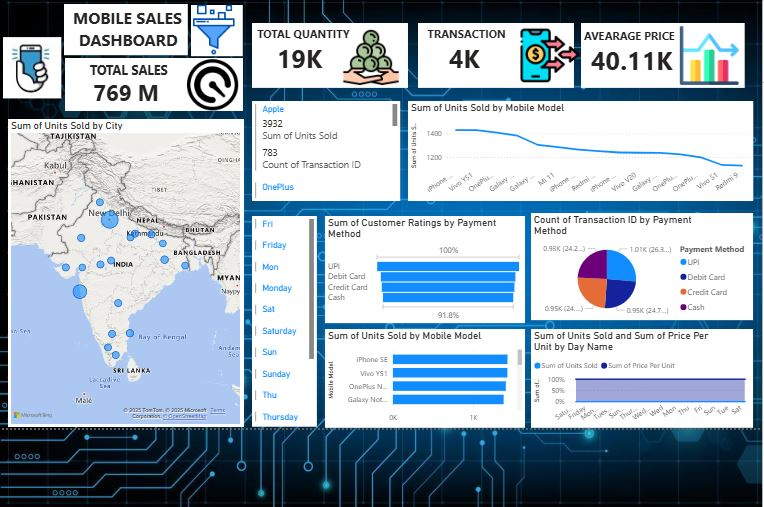

The page's visual inventory and layout, read from the dashboard file:
{"tool":"powerbi","page":{"name":"Page 1","canvas":[1280,720],"ordinal":0},"visuals":[{"type":"lineChart","fields":{"Y":["Sum(Sheet1.Units Sold)"],"Category":["Sheet1.Mobile Model"]},"box":[685.4,171.3,579.5,168],"z":0},{"type":"multiRowCard","fields":{"Values":["Sheet1.Day Name"]},"box":[423.3,364.5,109.2,354.4],"z":1000},{"type":"pieChart","fields":{"Category":["Sheet1.Payment Method"],"Y":["CountNonNull(Sheet1.Transaction ID)"]},"box":[892,359.5,372.9,179.7],"z":2000},{"type":"hundredPercentStackedAreaChart","fields":{"Category":["Sheet1.Day Name"],"Y":["Sum(Sheet1.Units Sold)","Sum(Sheet1.Price Per Unit)"]},"box":[892,554.3,372.9,166.3],"z":3000},{"type":"funnel","fields":{"Y":["Sum(Sheet1.Customer Ratings)"],"Category":["Sheet1.Payment Method"]},"box":[545.9,364.5,336,179.7],"z":4000},{"type":"barChart","fields":{"Category":["Sheet1.Mobile Model"],"Y":["Sum(Sheet1.Units Sold)"]},"box":[545.9,554.3,336,166.3],"z":5000},{"type":"multiRowCard","fields":{"Values":["Sheet1.Brand","Sum(Sheet1.Units Sold)","CountNonNull(Sheet1.Transaction ID)"]},"box":[423.3,171.3,248.6,168],"z":6000},{"type":"map","fields":{"Category":["Sheet1.City"],"Size":["Sum(Sheet1.Units Sold)"]},"box":[13.4,201.6,394.8,517.4],"z":7000},{"type":"textbox","box":[423.3,40.3,262,109.2],"z":8000},{"type":"textbox","box":[702.2,40.3,262,109.2],"z":9000},{"type":"textbox","box":[976,40.3,275.5,109.2],"z":10000},{"type":"image","box":[1101.9,40.3,178.1,109.2],"z":11000},{"type":"image","box":[853.3,40.3,141.1,109.2],"z":12000},{"type":"image","box":[520.7,43.7,204.9,109.2],"z":13000},{"type":"textbox","box":[320.8,10.1,87.3,85.7],"z":14000},{"type":"textbox","box":[107.5,8.4,208.3,85.7],"z":15000},{"type":"image","box":[309.1,3.4,99.1,95.7],"z":16000},{"type":"textbox","box":[109.2,99.1,299,89],"z":17000},{"type":"image","box":[309.1,94.1,95.7,100.8],"z":18000},{"type":"image","box":[0,0,107.5,230.1],"z":19000}]}

Visuals, with their boxes on the page's 1280x720 design canvas (x1, y1, x2, y2). These are canvas units, not pixel positions in the 764x507 screenshot, which may show the page scaled, cropped or inside an application window:
lineChart - Sum(Sheet1.Units Sold) x Sheet1.Mobile Model: [685,171,1265,339]
multiRowCard - Sheet1.Day Name: [423,364,532,719]
pieChart - Sheet1.Payment Method x CountNonNull(Sheet1.Transaction ID): [892,360,1265,539]
hundredPercentStackedAreaChart - Sheet1.Day Name x Sum(Sheet1.Units Sold): [892,554,1265,721]
funnel - Sum(Sheet1.Customer Ratings) x Sheet1.Payment Method: [546,364,882,544]
barChart - Sheet1.Mobile Model x Sum(Sheet1.Units Sold): [546,554,882,721]
multiRowCard - Sheet1.Brand x Sum(Sheet1.Units Sold): [423,171,672,339]
map - Sheet1.City x Sum(Sheet1.Units Sold): [13,202,408,719]
textbox: [423,40,685,150]
textbox: [702,40,964,150]
textbox: [976,40,1252,150]
image: [1102,40,1280,150]
image: [853,40,994,150]
image: [521,44,726,153]
textbox: [321,10,408,96]
textbox: [108,8,316,94]
image: [309,3,408,99]
textbox: [109,99,408,188]
image: [309,94,405,195]
image: [0,0,108,230]
